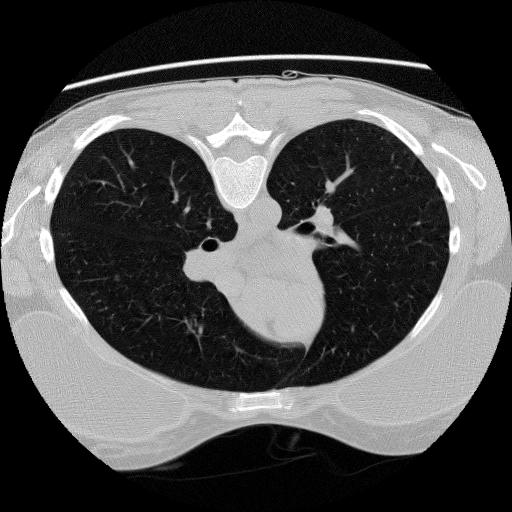nodule: (111, 274, 122, 285)
